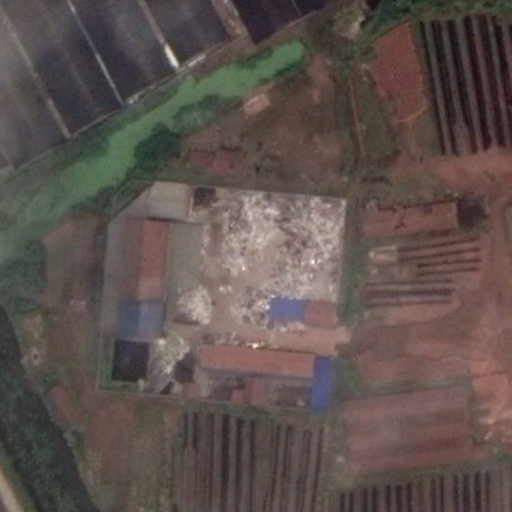msw: (172, 190, 347, 330)
